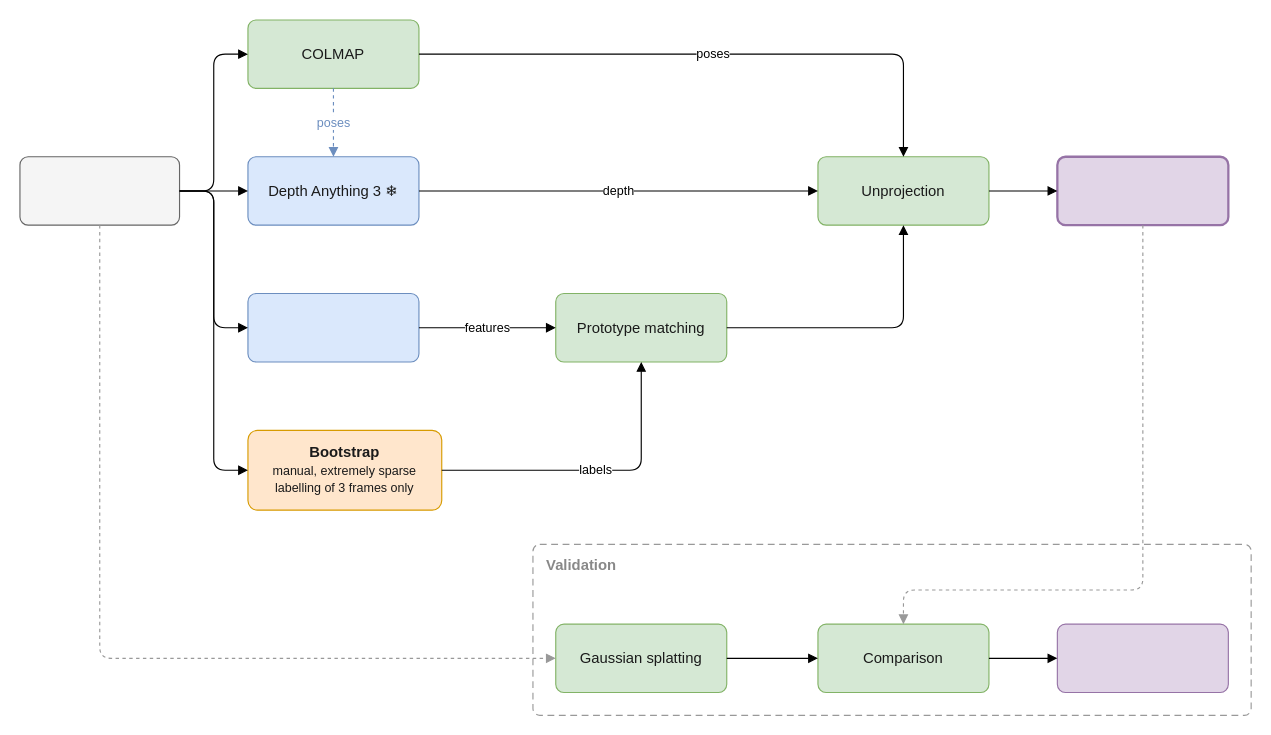
Image size: 1271x735. Some labels were removed from this diagram. Each missing label, with the centre of its shape:
3D feature point cloud: the point at 1142,190
DINOv2 ❄: the point at 333,327
Validation metrics: the point at 1142,658
Video frames: the point at 99,190
